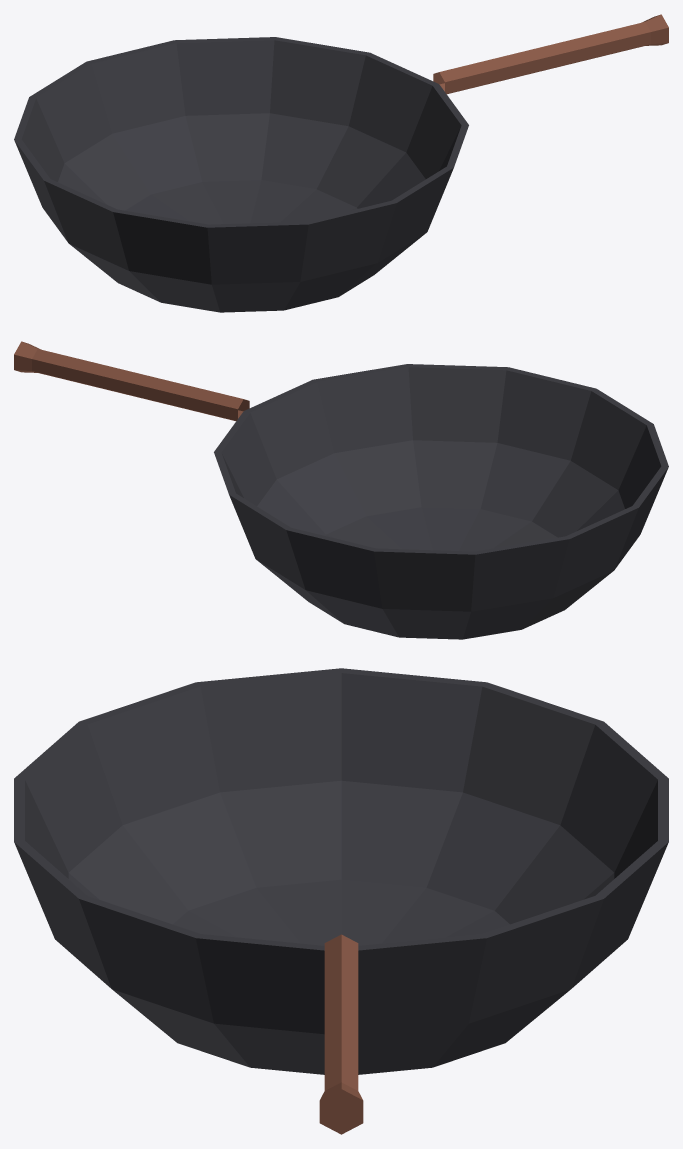
File: wok.glb
3 views of the same model, one above another, from view 1: azimuth 30°, elevation 25°; view 2: azimuth 150°, elevation 25°; view 3: azimuth 270°, elevation 25° (orthographic). The views are drawn at different scales.
Parts seen in each view (by area): view 1: wok; view 2: wok; view 3: wok.
Boxes of the visible parts, bbox=[...] form: wok: bbox=[14, 14, 668, 312]; wok: bbox=[14, 341, 668, 639]; wok: bbox=[14, 668, 668, 1134].
Bounding box in the file's own units: 0.75 × 0.188 × 0.468.
Materials: 1 (1 with a texture image).
